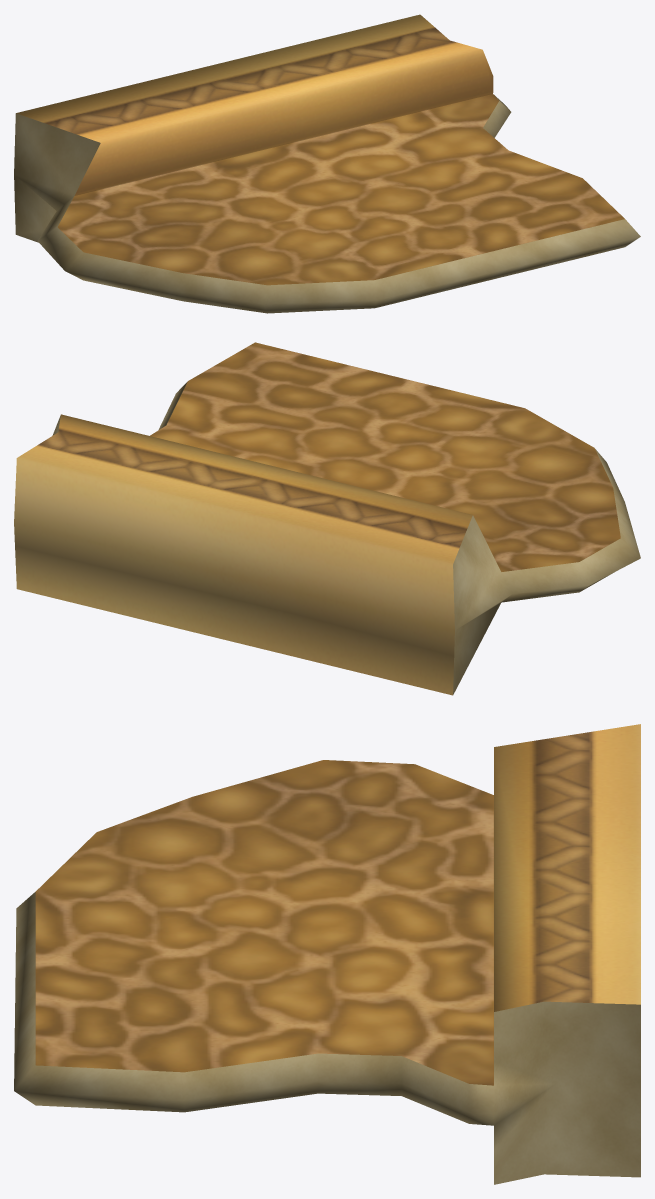
File: Rubble_6.FBX
3 renders of one model, top to bottom at view 1: azimuth 30°, elevation 25°; view 2: azimuth 150°, elevation 25°; view 3: azimuth 270°, elevation 25°, orthographic. The views are drawn at different scales.
Visible parts, largest first — view 1: Rubble_1; view 2: Rubble_1; view 3: Rubble_1.
Part boxes in pixels (bbox=[...]): Rubble_1: bbox=[14, 14, 640, 313]; Rubble_1: bbox=[14, 342, 640, 695]; Rubble_1: bbox=[14, 724, 640, 1184].
Size of the model in its own units: 215 by 49.99 by 164.
